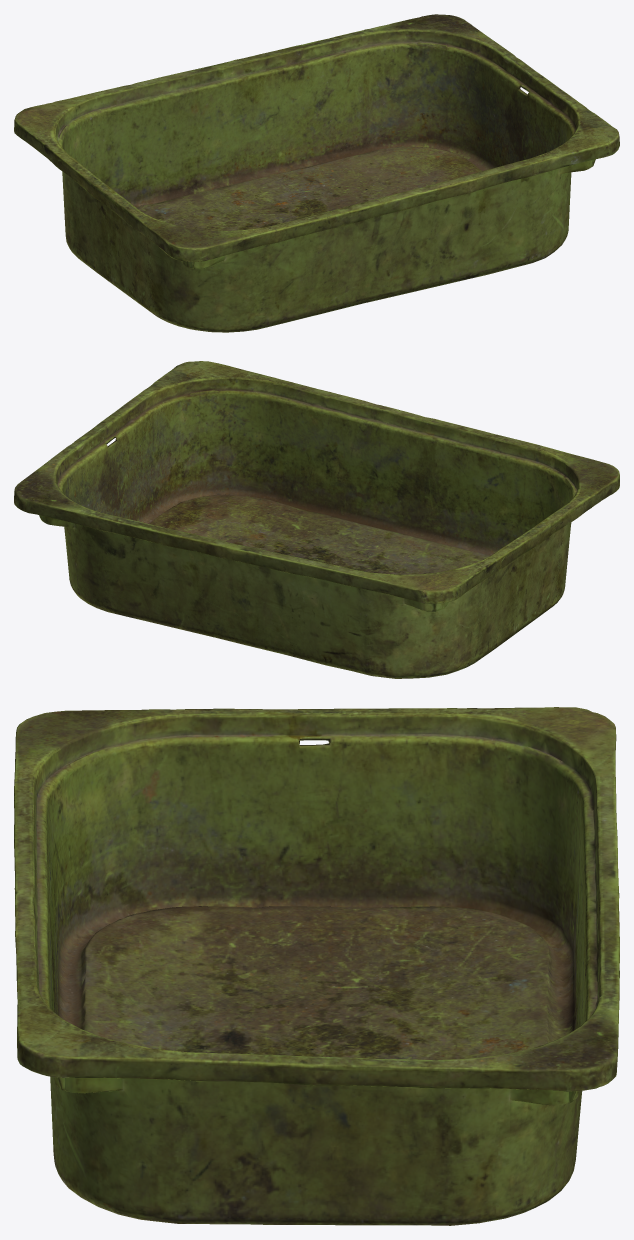
The model's file is Dirty_Plastic_Container_vgyieacaw_High.gltf.
3 renders of one model, top to bottom at view 1: azimuth 30°, elevation 25°; view 2: azimuth 150°, elevation 25°; view 3: azimuth 270°, elevation 25°, orthographic. The views are drawn at different scales.
Visible parts, largest first — view 1: vgyieacaw_LOD0_TIER1_000; view 2: vgyieacaw_LOD0_TIER1_000; view 3: vgyieacaw_LOD0_TIER1_000.
Part boxes in pixels (x1,y1,x2,y2): vgyieacaw_LOD0_TIER1_000: (14,14,619,332); vgyieacaw_LOD0_TIER1_000: (14,361,619,678); vgyieacaw_LOD0_TIER1_000: (14,707,619,1225).
Bounding box in the file's own units: 0.4153 × 0.1027 × 0.2959.
1 material, 1 textured.
